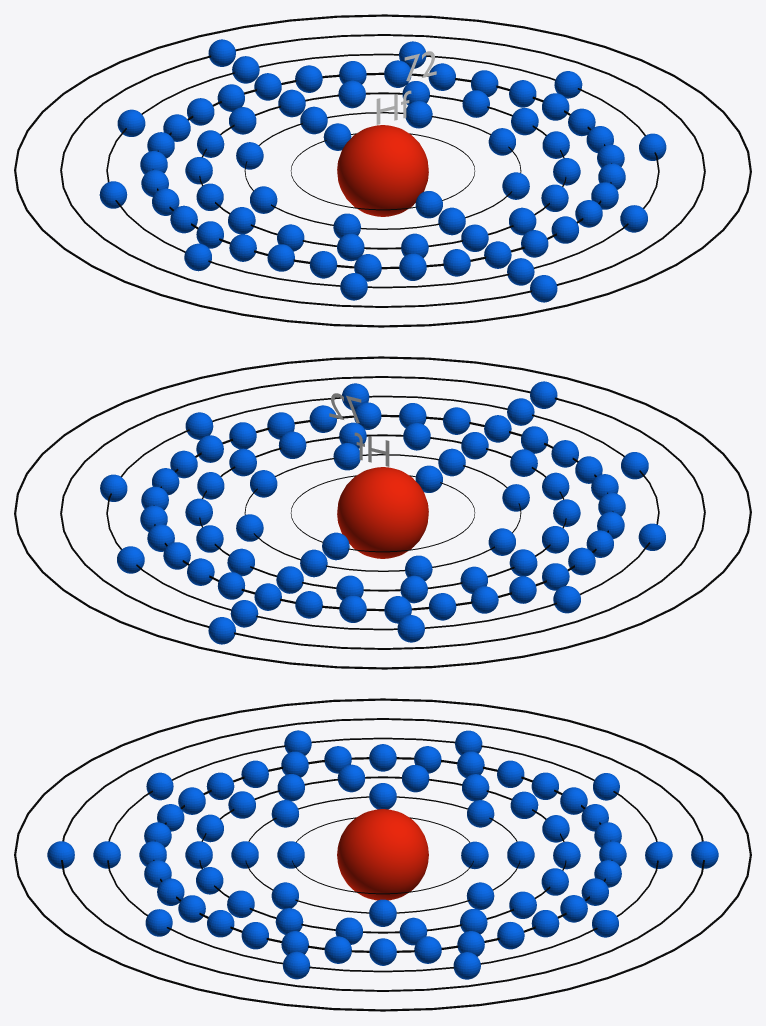
3 renders of one model, top to bottom at view 1: azimuth 30°, elevation 25°; view 2: azimuth 150°, elevation 25°; view 3: azimuth 270°, elevation 25°, orthographic.
Visible parts, largest first — view 1: Hf4, Hf3, Proton, Hf5, Hf2, n7, n6, n5, Hf6, Hf1, n3, n4 (+1 smaller); view 2: Hf4, Hf3, Proton, Hf5, Hf2, n7, n6, n5, Hf6, Hf1, n3, n4 (+1 smaller); view 3: Hf4, Hf3, Proton, Hf5, Hf2, n7, n6, n5, Hf1, Hf6, n3, n4 (+2 smaller).
Part boxes in pixels (<box>): Hf4: <box>140,60,625,281</box>; Hf3: <box>185,80,580,261</box>; Proton: <box>337,125,428,216</box>; Hf5: <box>99,41,666,300</box>; Hf2: <box>236,101,529,238</box>; n7: <box>14,14,751,327</box>; n6: <box>60,34,705,307</box>; n5: <box>106,53,659,288</box>; Hf6: <box>208,39,557,302</box>; Hf1: <box>323,123,442,218</box>; n3: <box>199,92,566,249</box>; n4: <box>152,72,611,269</box>; Hf4: <box>140,402,625,623</box>; Hf3: <box>185,422,580,603</box>; Proton: <box>337,467,428,558</box>; Hf5: <box>100,383,665,642</box>; Hf2: <box>236,443,529,580</box>; n7: <box>14,356,751,669</box>; n6: <box>60,376,705,649</box>; n5: <box>106,395,659,630</box>; Hf6: <box>208,381,557,644</box>; Hf1: <box>322,465,442,560</box>; n3: <box>199,434,566,591</box>; n4: <box>153,414,613,611</box>; Hf4: <box>139,744,626,965</box>; Hf3: <box>185,764,580,945</box>; Proton: <box>337,809,428,900</box>; Hf5: <box>93,730,672,979</box>; Hf2: <box>231,783,534,926</box>; n7: <box>14,698,751,1011</box>; n6: <box>61,718,704,991</box>; n5: <box>107,737,658,972</box>; Hf1: <box>277,841,488,869</box>; Hf6: <box>47,841,718,868</box>; n3: <box>199,776,566,933</box>; n4: <box>153,757,612,952</box>.
Bounding box in the file's own units: 802 × 180 × 802.
